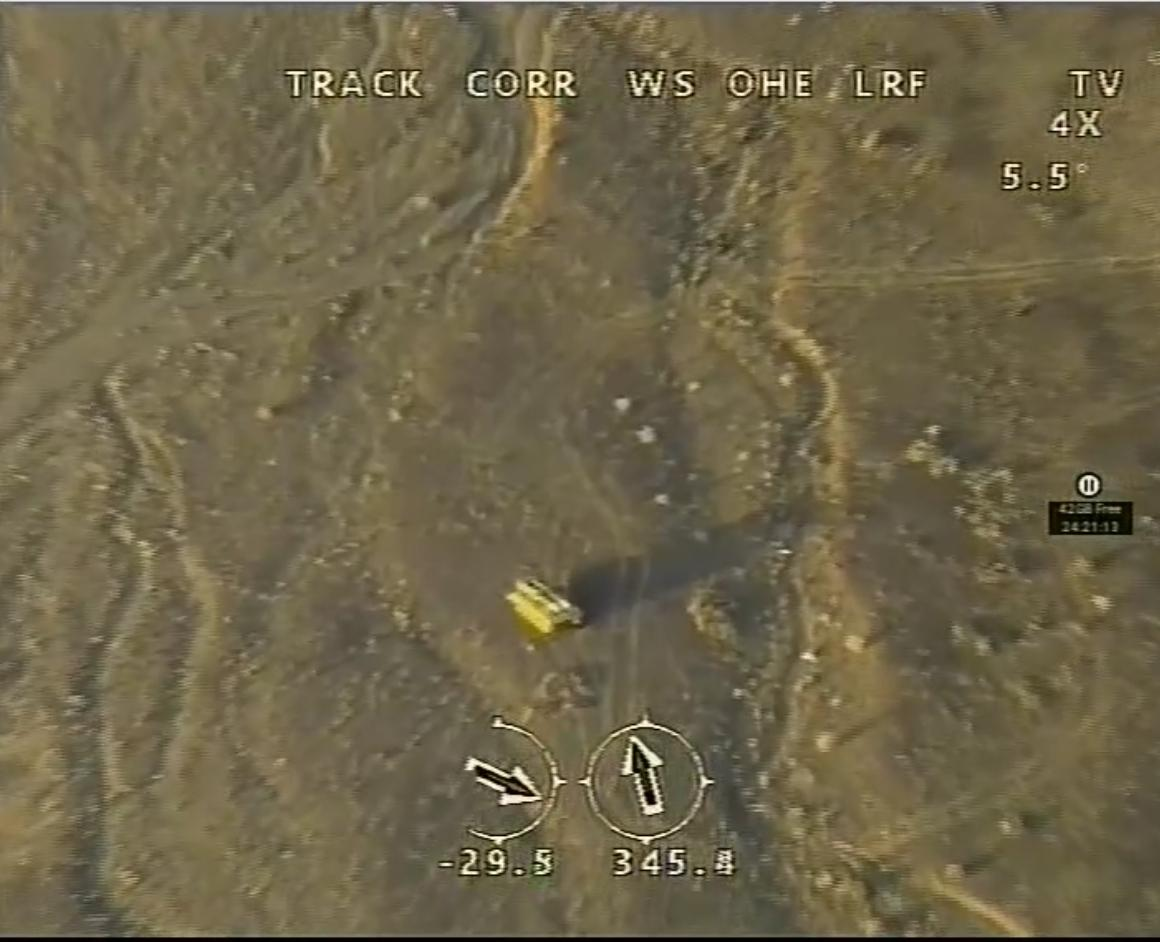armored_car: (502, 572, 590, 635)
